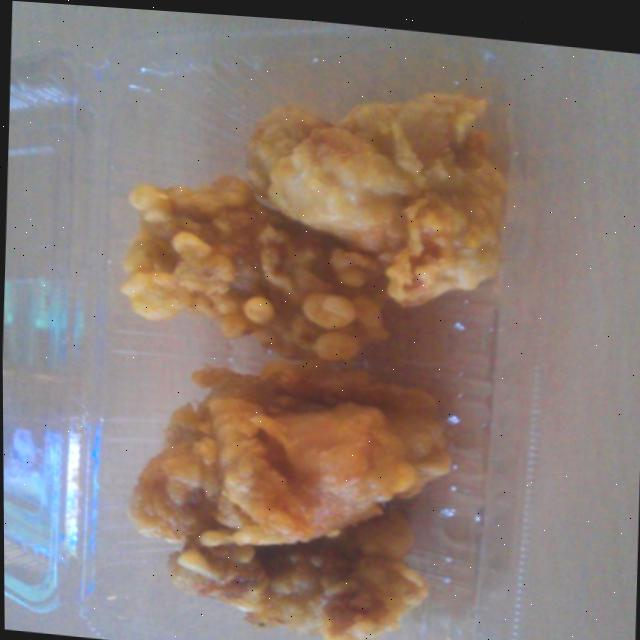鸡肉料理 含炸鸡: (51, 3, 554, 640)
